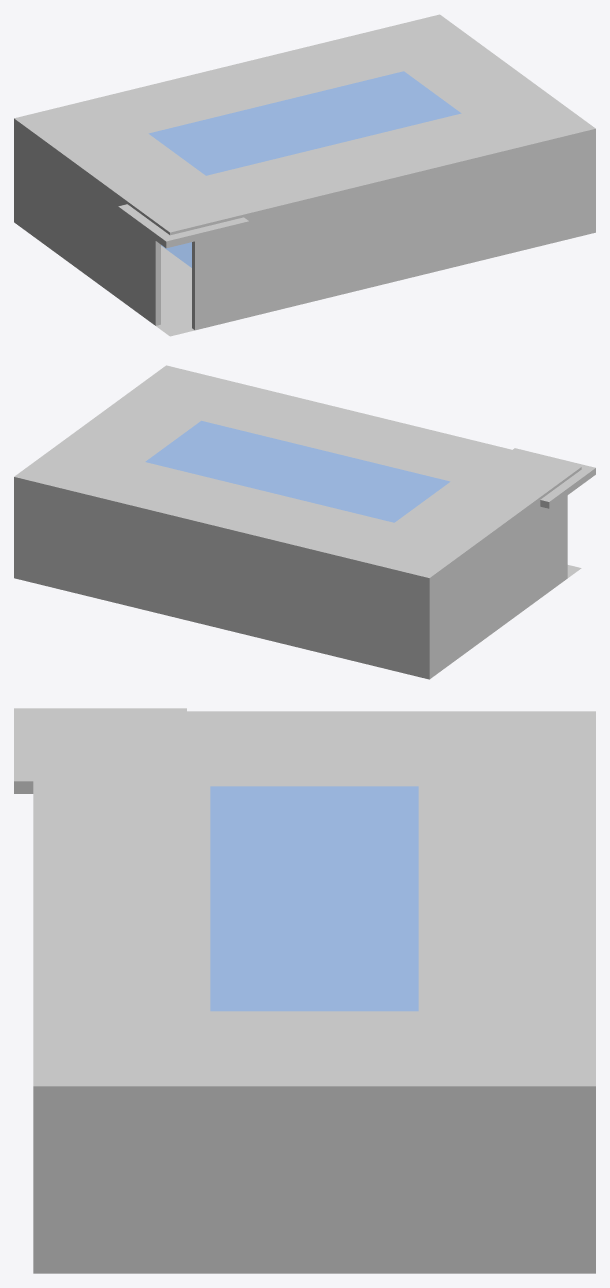
The model's file is dic17.glb.
3 renders of one model, top to bottom at view 1: azimuth 30°, elevation 25°; view 2: azimuth 150°, elevation 25°; view 3: azimuth 270°, elevation 25°, orthographic. The views are drawn at different scales.
Parts seen in each view (by area): view 1: dic17; view 2: dic17; view 3: dic17.
Boxes of the visible parts, box(x1,y1,x2,y2) form: dic17: box(14, 14, 595, 336); dic17: box(14, 365, 595, 679); dic17: box(14, 708, 595, 1273).
Bounding box in the file's own units: 9.9 × 2.26 × 6.36.
